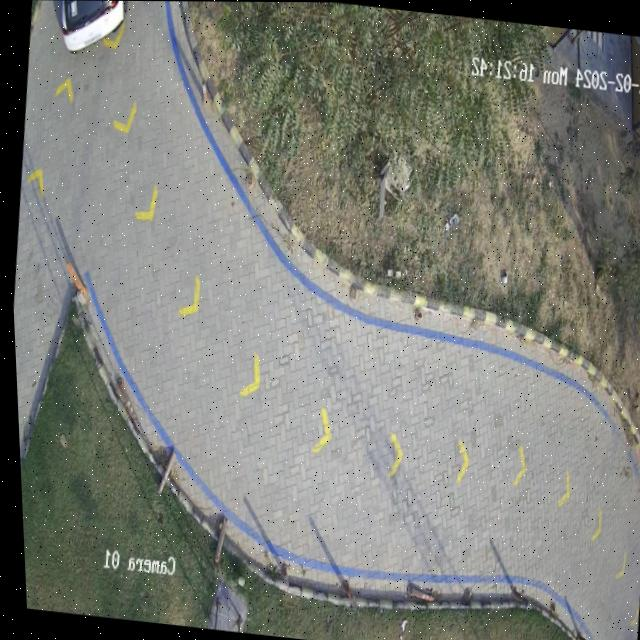car: (61, 0, 124, 50)
